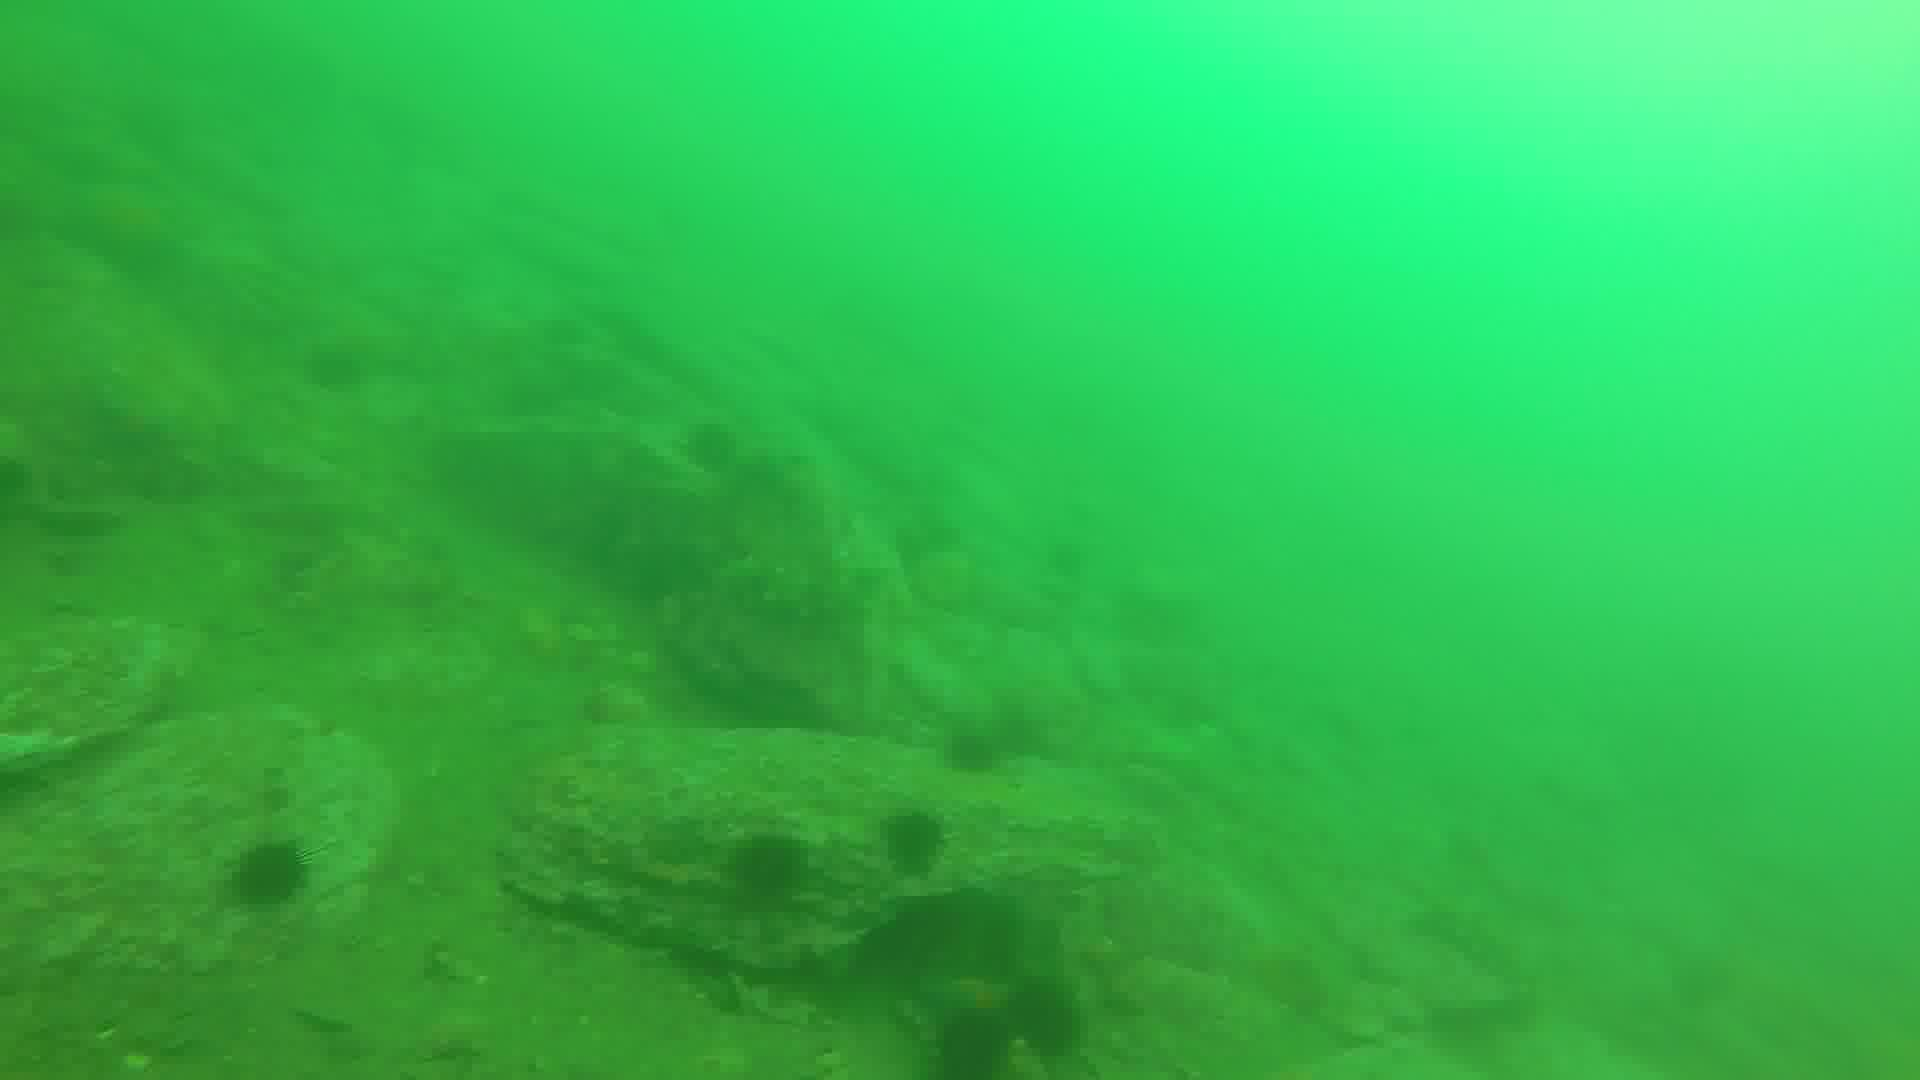echinus: (939, 1005, 1015, 1073), (889, 802, 951, 866), (248, 839, 320, 893), (738, 833, 799, 891), (1033, 1002, 1091, 1058), (1011, 971, 1069, 1025)
